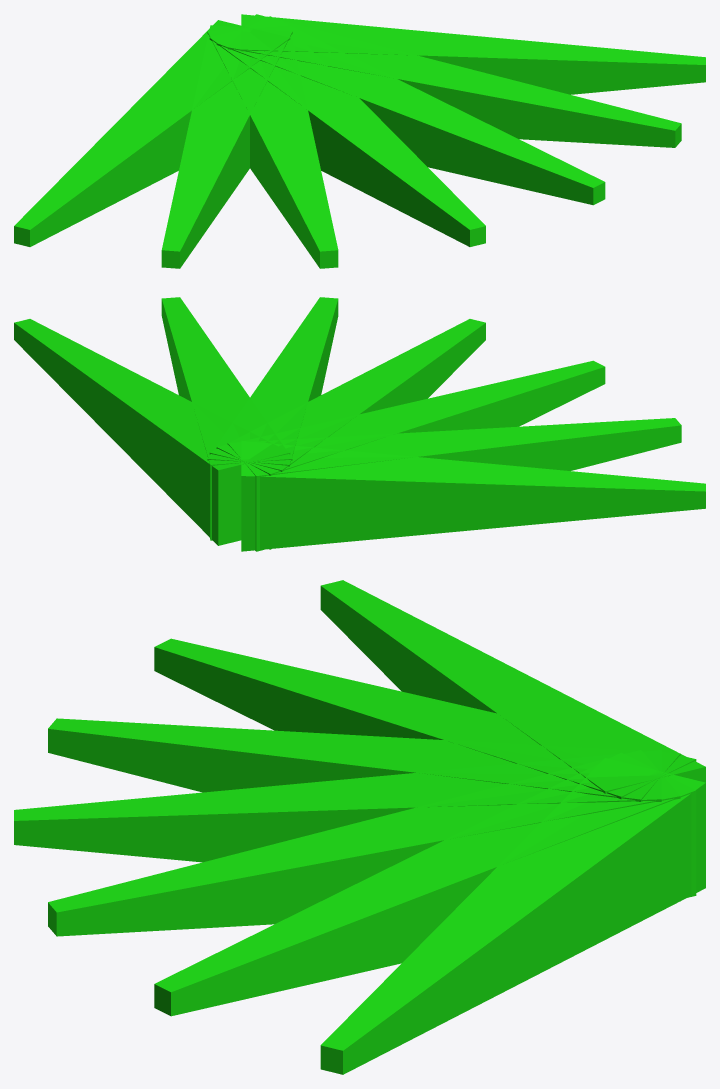
File: Grass.glb
The picture shows the model from 3 angles, top to bottom: view 1: azimuth 30°, elevation 25°; view 2: azimuth 150°, elevation 25°; view 3: azimuth 270°, elevation 25°; orthographic projection. The views are drawn at different scales.
Visible parts, largest first — view 1: Cube.003; view 2: Cube.003; view 3: Cube.003.
Boxes of the visible parts, box(x1,y1,x2,y2) form: Cube.003: box(14, 14, 705, 268); Cube.003: box(14, 297, 705, 551); Cube.003: box(14, 580, 705, 1074).
Size of the model in its own units: 1.22 by 0.1276 by 0.7589.
